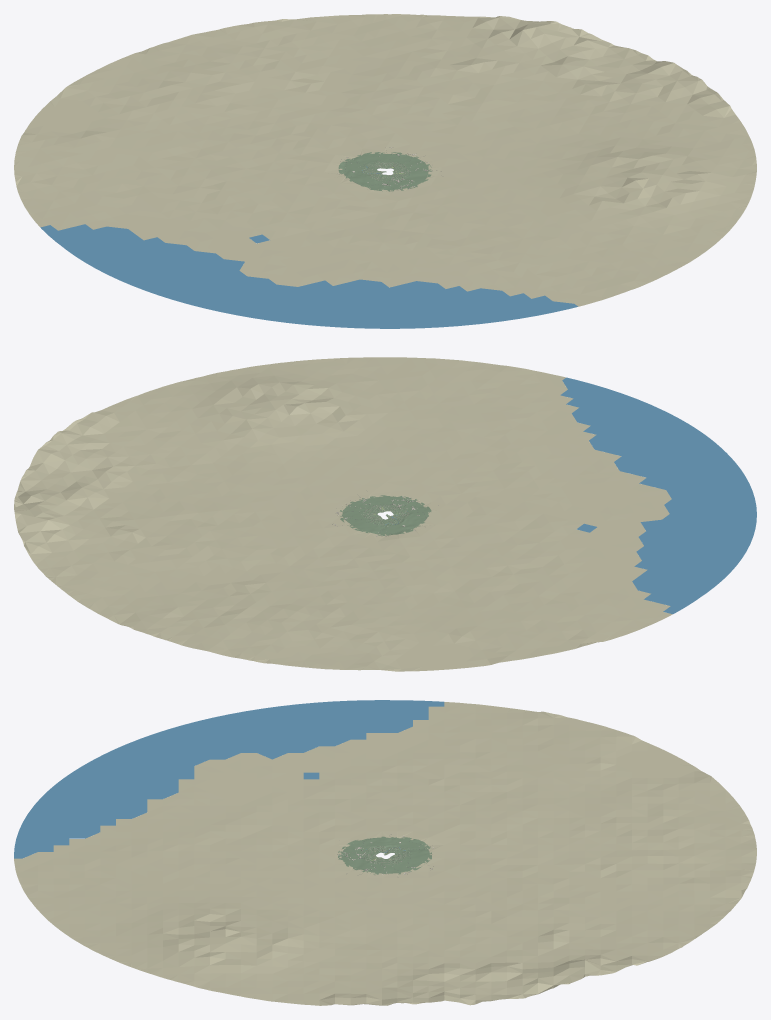
The model's file is backdrop.glb.
The picture shows the model from 3 angles, top to bottom: view 1: azimuth 30°, elevation 25°; view 2: azimuth 150°, elevation 25°; view 3: azimuth 270°, elevation 25°; orthographic projection.
Parts seen in each view (by area): view 1: backdrop_horizon_land, backdrop_horizon_water, backdrop_terrain_wood; view 2: backdrop_horizon_land, backdrop_horizon_water, backdrop_terrain_wood; view 3: backdrop_horizon_land, backdrop_horizon_water, backdrop_terrain_wood.
Boxes of the visible parts, x1,y1,x2,y2 form: backdrop_horizon_land: [14, 14, 756, 306]; backdrop_horizon_water: [40, 224, 577, 328]; backdrop_terrain_wood: [338, 152, 431, 191]; backdrop_horizon_land: [14, 357, 672, 671]; backdrop_horizon_water: [560, 377, 756, 614]; backdrop_terrain_wood: [340, 495, 431, 535]; backdrop_horizon_land: [14, 702, 756, 1005]; backdrop_horizon_water: [14, 700, 444, 858]; backdrop_terrain_wood: [338, 836, 431, 874].
Size of the model in its own units: 70907 by 1140 by 71297.
